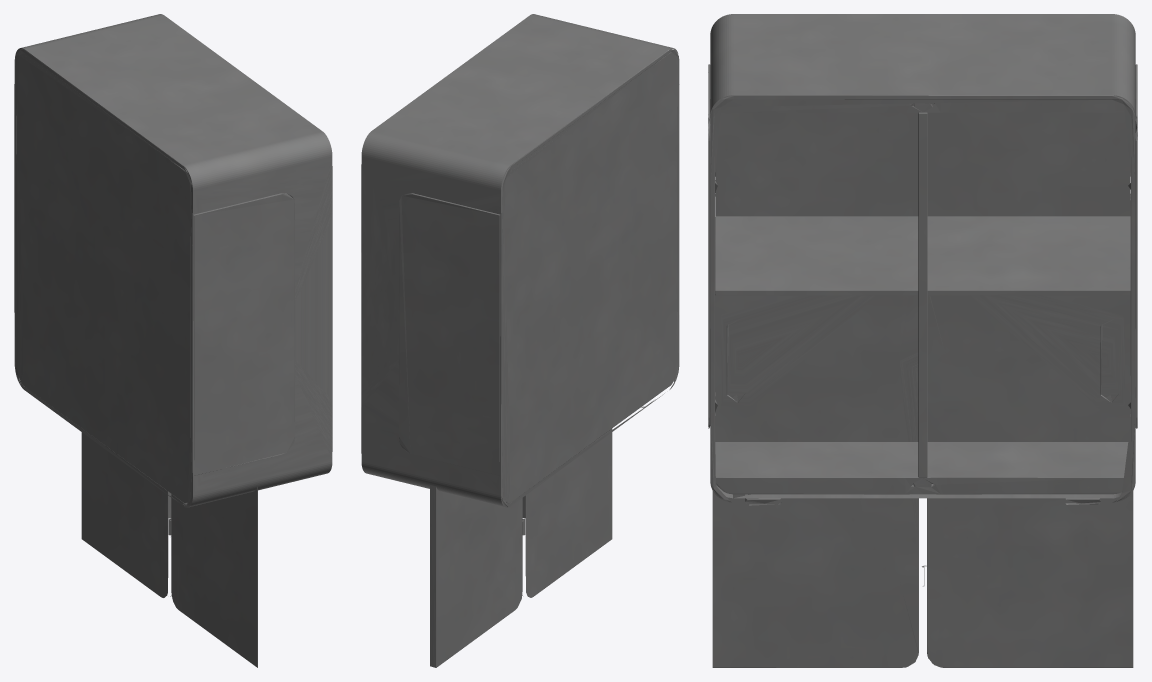
Rendered from cabinet_file_c01.glb.
The picture shows the model from 3 angles, left to right: view 1: azimuth 30°, elevation 25°; view 2: azimuth 150°, elevation 25°; view 3: azimuth 270°, elevation 25°; orthographic projection. The views are drawn at different scales.
Parts seen in each view (by area): view 1: geometry_0; view 2: geometry_0; view 3: geometry_0.
Part boxes in pixels (bbox=[...]): geometry_0: bbox=[14, 14, 332, 667]; geometry_0: bbox=[361, 14, 679, 667]; geometry_0: bbox=[708, 14, 1137, 667].
Bounding box in the file's own units: 0.1209 × 0.42 × 0.267.
Materials: 1 (1 with a texture image).
